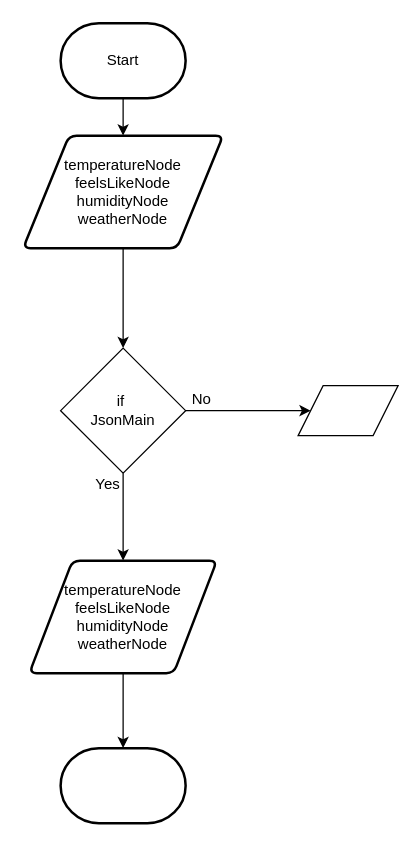
Image size: 420x845. Some labels were removed from this diagram. Each missing label, with the centre of its shape:
"Error" goes at (347,410).
"Stop" goes at (122,785).
